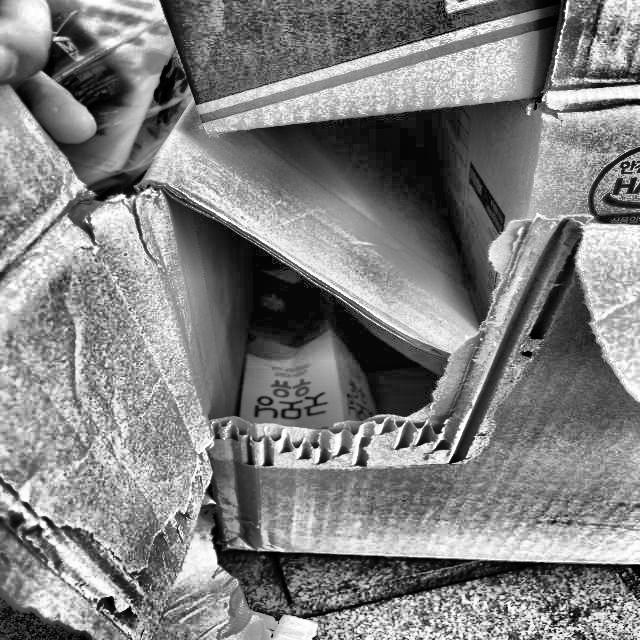box: (135, 0, 639, 576)
hole: (136, 206, 536, 459)
